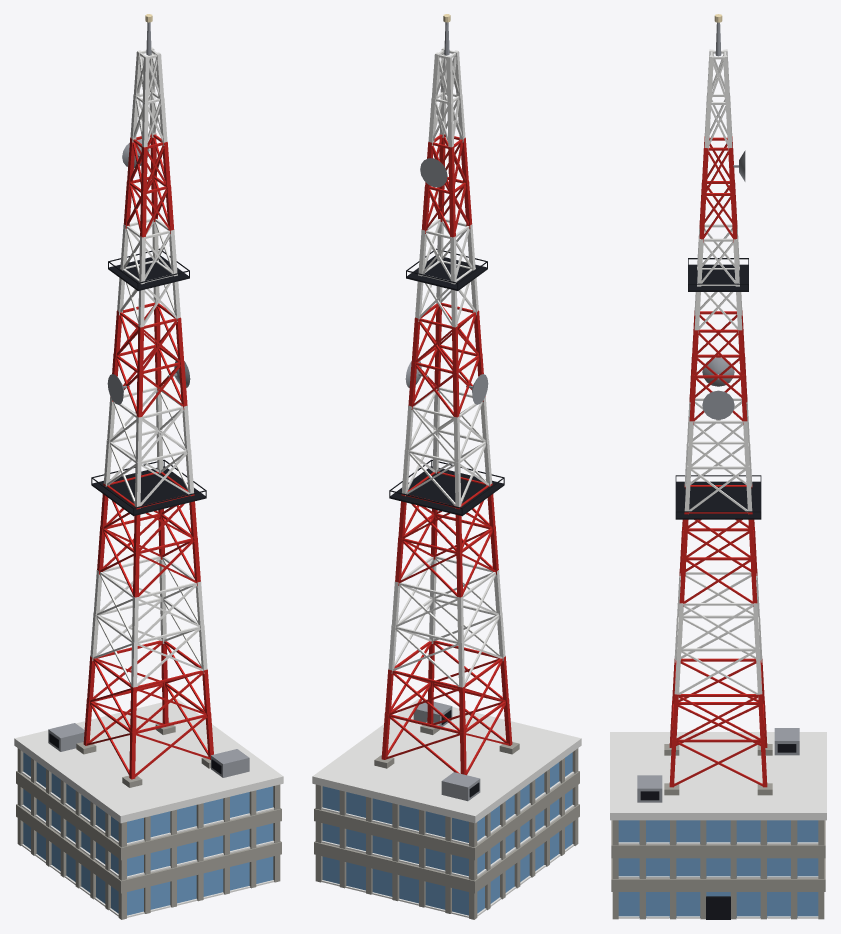
The model's file is Skyline_Radio.fbx.
3 renders of one model, left to right at view 1: azimuth 30°, elevation 25°; view 2: azimuth 150°, elevation 25°; view 3: azimuth 270°, elevation 25°, orthographic. The views are drawn at different scales.
Parts seen in each view (by area): view 1: White.007, Accent.003, Concrete.005, Window.009, Dark.009, Metal.007; view 2: White.007, Accent.003, Concrete.005, Window.009, Dark.009, Metal.007; view 3: White.007, Accent.003, Concrete.005, Window.009, Dark.009, Metal.007.
Part boxes in pixels (x1=…): White.007: x1=14, y1=47, x2=283, y2=917; Accent.003: x1=83, y1=133, x2=213, y2=779; Concrete.005: x1=16, y1=721, x2=281, y2=919; Window.009: x1=23, y1=752, x2=273, y2=915; Dark.009: x1=49, y1=248, x2=221, y2=774; Metal.007: x1=48, y1=22, x2=249, y2=777; White.007: x1=312, y1=47, x2=581, y2=917; Accent.003: x1=381, y1=133, x2=512, y2=775; Concrete.005: x1=314, y1=721, x2=579, y2=919; Window.009: x1=322, y1=752, x2=572, y2=915; Dark.009: x1=389, y1=248, x2=504, y2=797; Metal.007: x1=405, y1=22, x2=488, y2=801; White.007: x1=610, y1=49, x2=826, y2=918; Accent.003: x1=669, y1=136, x2=767, y2=787; Concrete.005: x1=611, y1=744, x2=825, y2=919; Window.009: x1=618, y1=820, x2=818, y2=917; Dark.009: x1=640, y1=258, x2=796, y2=919; Metal.007: x1=637, y1=22, x2=799, y2=802.
Size of the model in its own units: 30.8 by 153 by 34.8.
